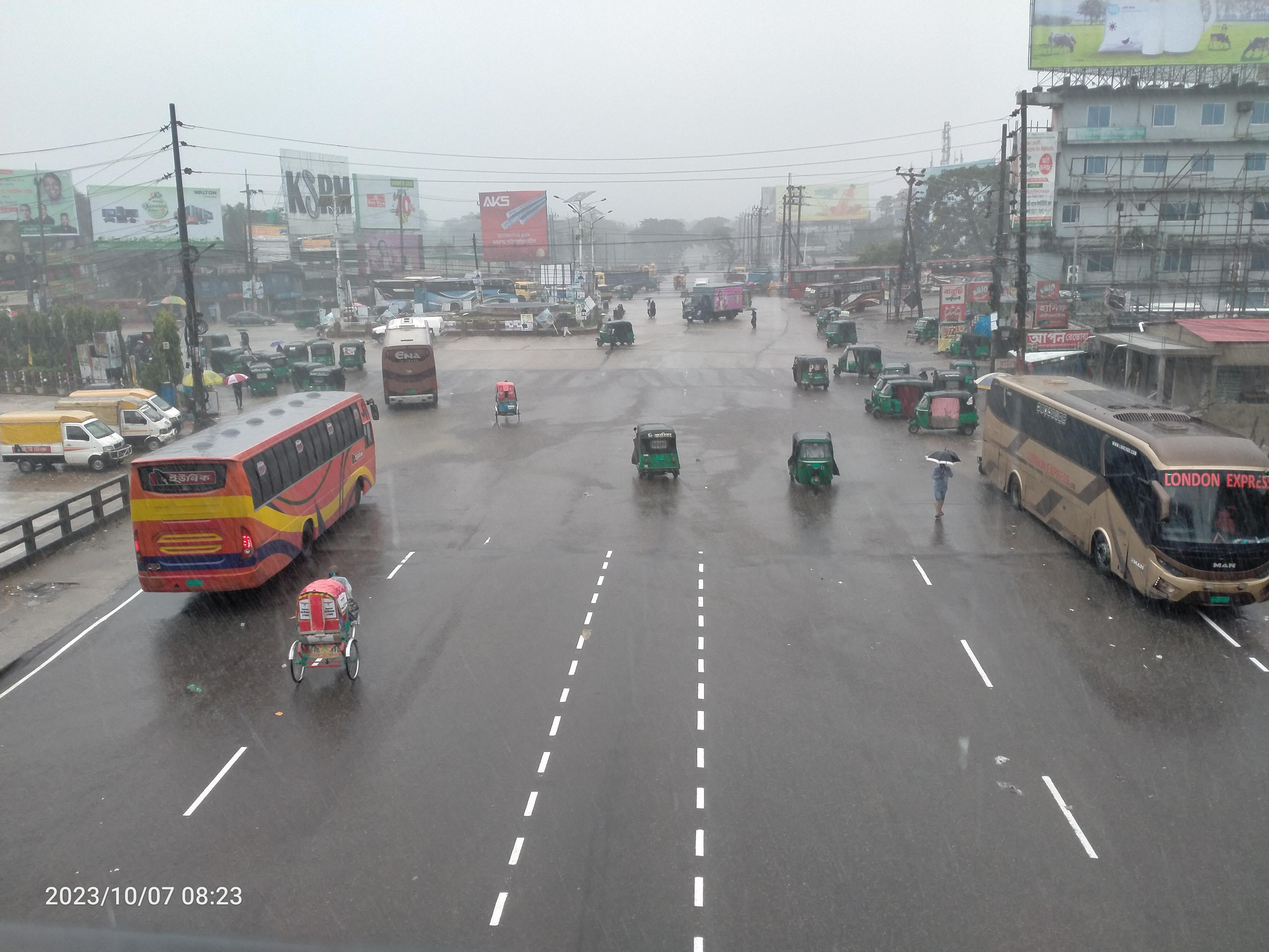Bus: (958, 349, 1269, 644), (110, 373, 450, 609), (371, 307, 452, 424), (403, 267, 529, 325), (915, 250, 1019, 303), (777, 265, 910, 303), (793, 274, 901, 320)
Car: (273, 557, 385, 713), (0, 385, 143, 493), (82, 372, 184, 459), (473, 370, 538, 438), (361, 312, 460, 349), (220, 305, 279, 331), (667, 271, 690, 294)
Truck: (676, 282, 753, 327), (512, 274, 548, 309)
